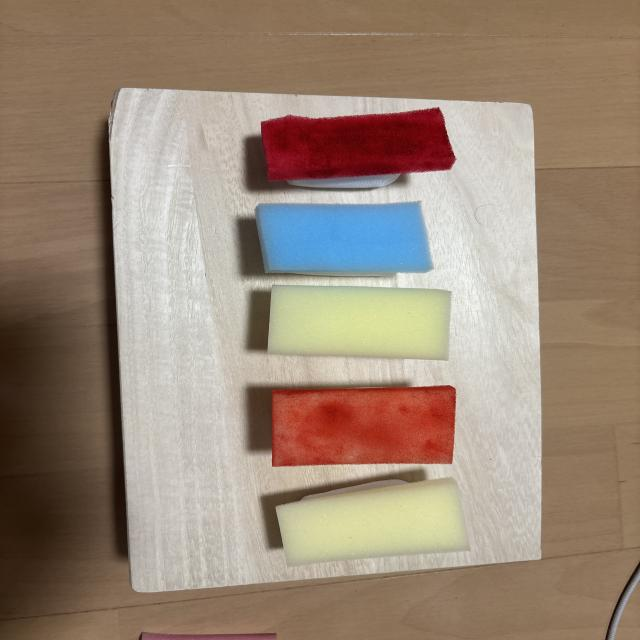ika: (256, 202, 433, 275)
maguro: (261, 107, 456, 189)
salmon: (272, 385, 456, 466)
tamago: (277, 478, 470, 566), (268, 285, 450, 360)
